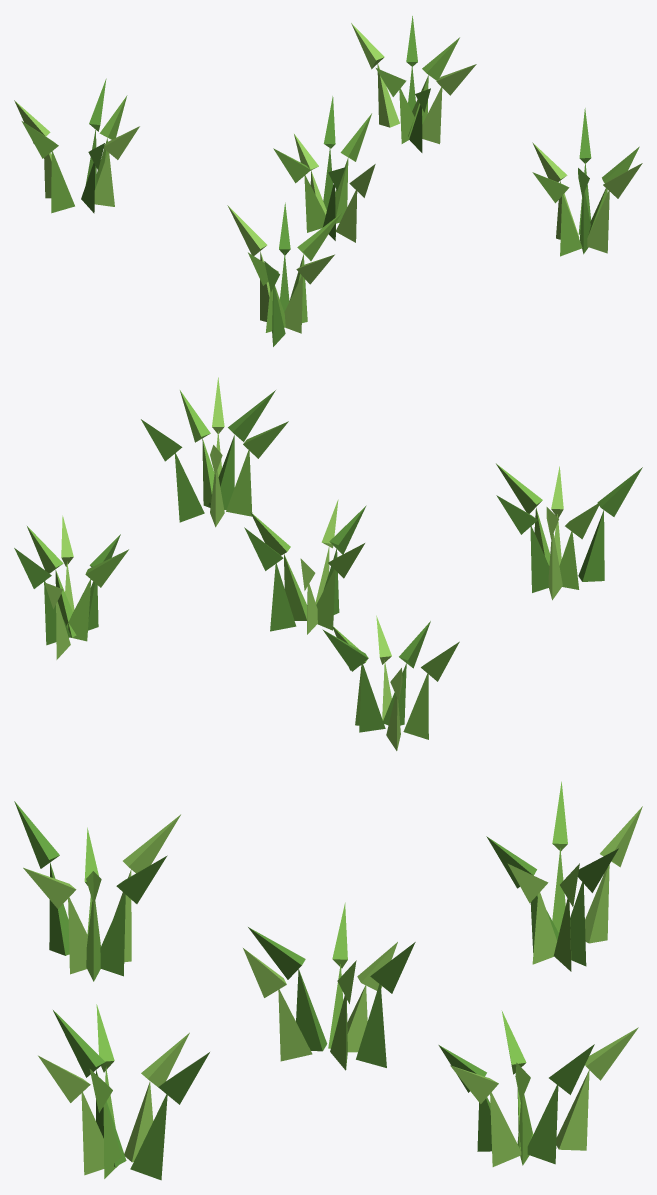
Rendered from grass-2.glb.
3 renders of one model, top to bottom at view 1: azimuth 30°, elevation 25°; view 2: azimuth 150°, elevation 25°; view 3: azimuth 270°, elevation 25°, orthographic. The views are drawn at different scales.
Visible parts, largest first — view 1: grass-2; view 2: grass-2; view 3: grass-2.
Boxes of the visible parts, box(x1,y1,x2,y2) form: grass-2: box(14, 16, 642, 346); grass-2: box(14, 377, 642, 750); grass-2: box(14, 781, 642, 1180).
Bounding box in the file's own units: 0.631 × 0.1458 × 0.5898.
Materials: 1 (1 with a texture image).
